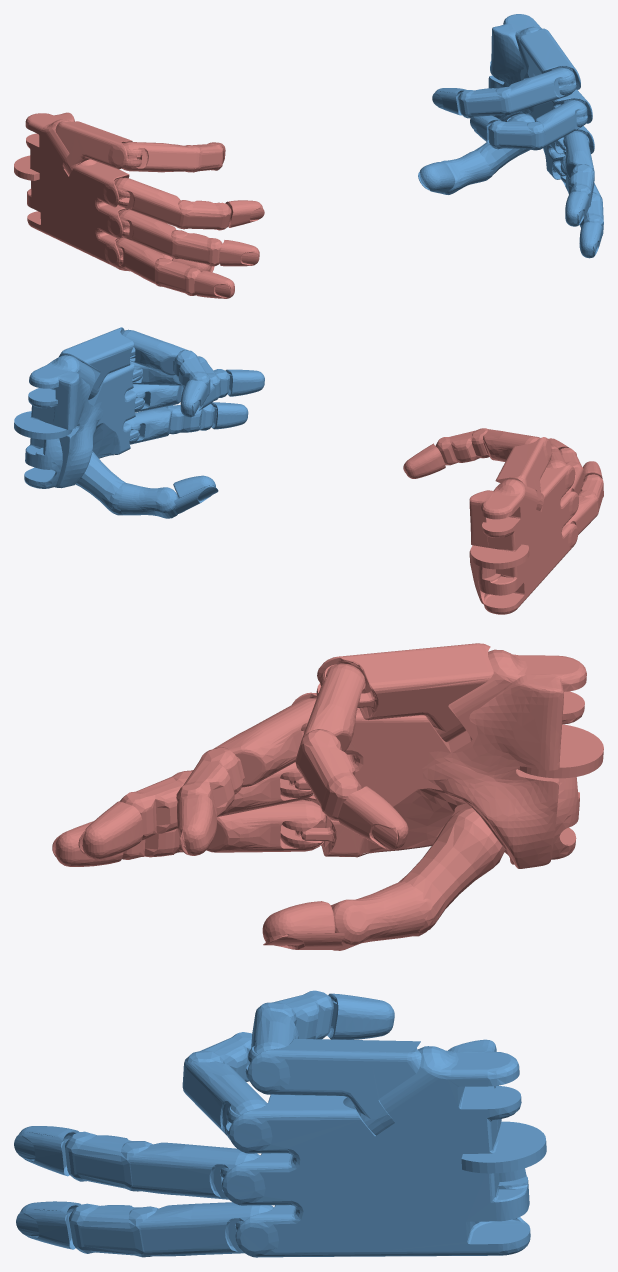
File: cell_phone_pc.glb
The picture shows the model from 3 angles, top to bottom: view 1: azimuth 30°, elevation 25°; view 2: azimuth 150°, elevation 25°; view 3: azimuth 270°, elevation 25°; orthographic projection. The views are drawn at different scales.
Visible parts, largest first — view 1: left_shadow_hand, right_shadow_hand; view 2: right_shadow_hand, left_shadow_hand; view 3: right_shadow_hand, left_shadow_hand.
Part boxes in pixels (x1=…): left_shadow_hand: x1=14, y1=112, x2=264, y2=298; right_shadow_hand: x1=418, y1=14, x2=603, y2=258; right_shadow_hand: x1=14, y1=327, x2=264, y2=518; left_shadow_hand: x1=403, y1=428, x2=603, y2=614; right_shadow_hand: x1=14, y1=990, x2=546, y2=1257; left_shadow_hand: x1=52, y1=643, x2=603, y2=950.
Size of the model in its own units: 0.4022 by 0.1123 by 0.2282.
